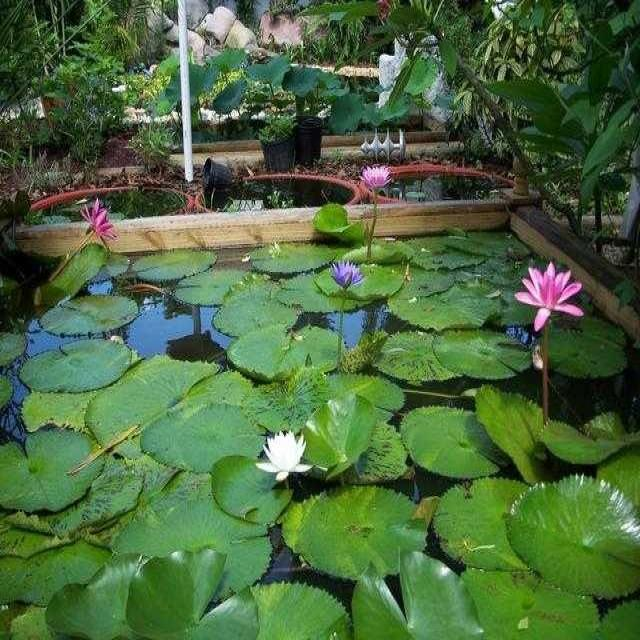Ponds: (2, 190, 640, 634)
